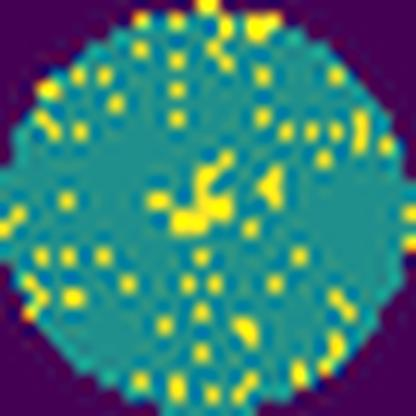Center: (167, 176, 231, 238)
